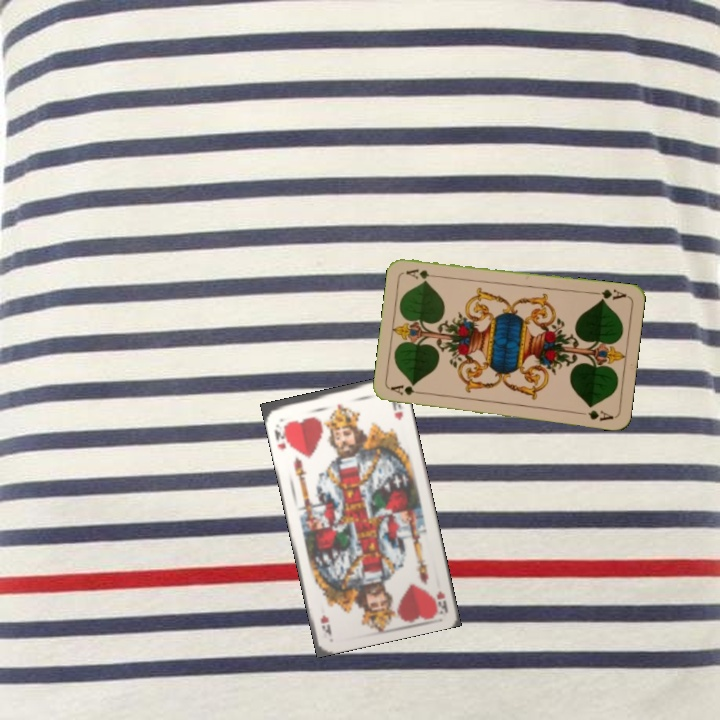GA: (589, 285, 629, 304), (387, 381, 428, 398)
HK: (270, 420, 293, 453), (430, 587, 450, 614)
